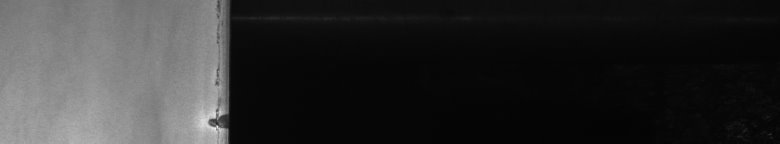hb: (198, 109, 216, 136)
